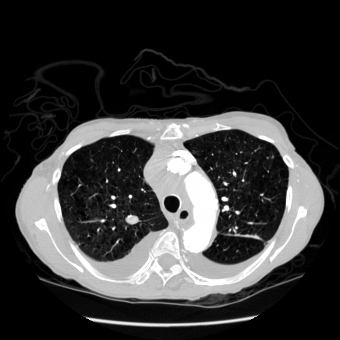nodule: (126, 214, 138, 226)
